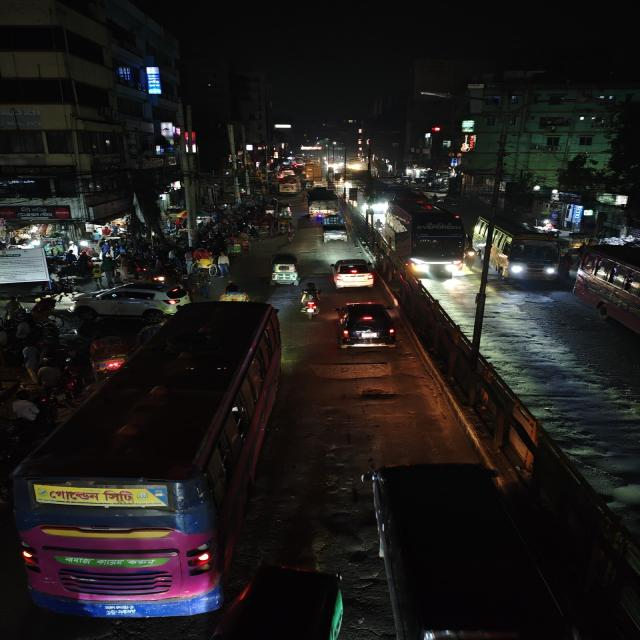bicycle: (282, 225, 296, 243)
bus: (8, 298, 284, 622), (572, 242, 640, 350), (383, 198, 468, 278), (474, 214, 568, 283)
car: (359, 456, 558, 640), (72, 280, 190, 314), (331, 299, 401, 352), (328, 255, 376, 291)
cng: (267, 252, 302, 288), (273, 200, 295, 219)
motorcycle: (296, 282, 324, 320)
pedestrian: (9, 393, 40, 430), (35, 362, 65, 400), (19, 342, 43, 377), (214, 252, 232, 277)
pickup_van: (320, 213, 350, 243)
rickshaw: (85, 332, 132, 373), (191, 250, 218, 280), (218, 279, 249, 301), (222, 234, 248, 254)
truck: (304, 187, 339, 216), (320, 213, 350, 243)
